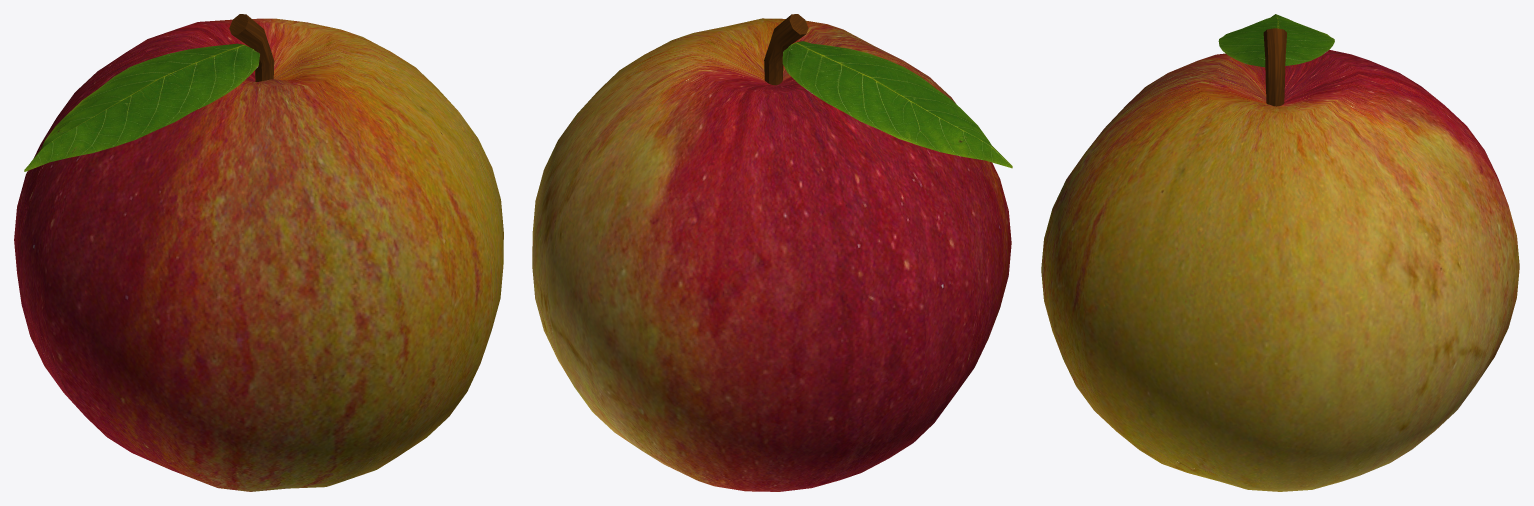
The model's file is apple.fbx.
3 views of the same model, side by side, from view 1: azimuth 30°, elevation 25°; view 2: azimuth 150°, elevation 25°; view 3: azimuth 270°, elevation 25° (orthographic). The views are drawn at different scales.
Visible parts, largest first — view 1: polySurface4; view 2: polySurface4; view 3: polySurface4.
Part boxes in pixels (x1=…): polySurface4: x1=14, y1=14, x2=503, y2=491; polySurface4: x1=532, y1=14, x2=1012, y2=491; polySurface4: x1=1041, y1=14, x2=1519, y2=491.
Bounding box in the file's own units: 1.26 × 1.17 × 1.22.
